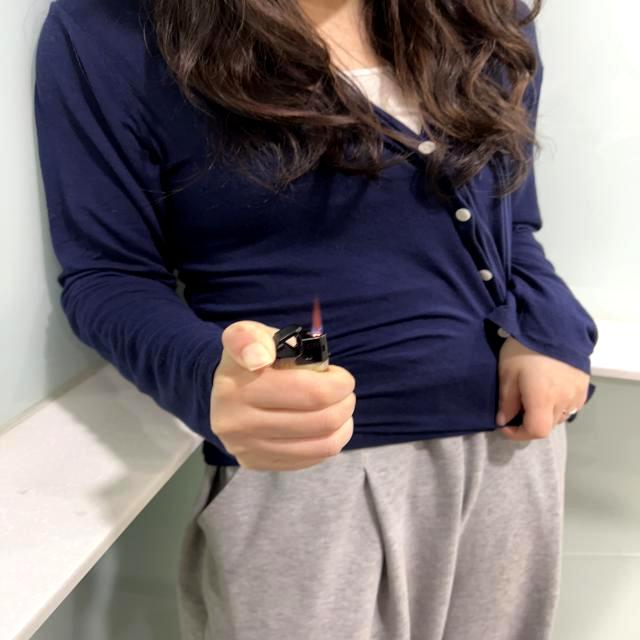fire: (312, 299, 324, 335)
